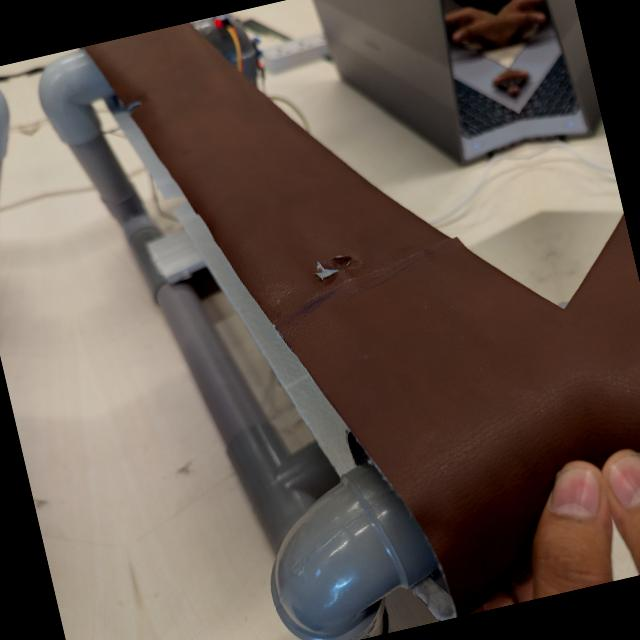joint_damage: (294, 254, 363, 303)
